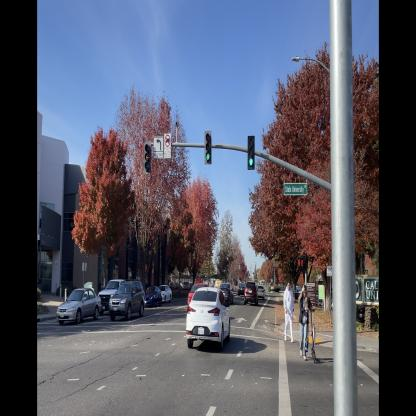green: (246, 133, 256, 173), (203, 129, 213, 167)
left-red: (144, 141, 152, 175)
